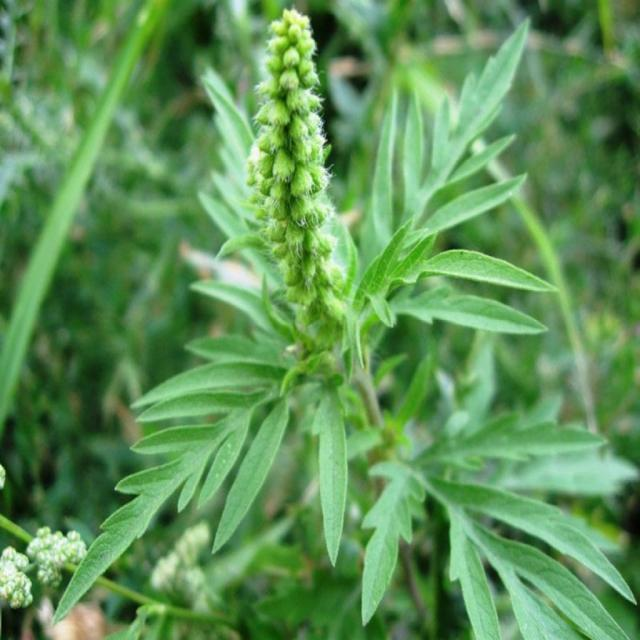ambrosia: (222, 5, 388, 464)
